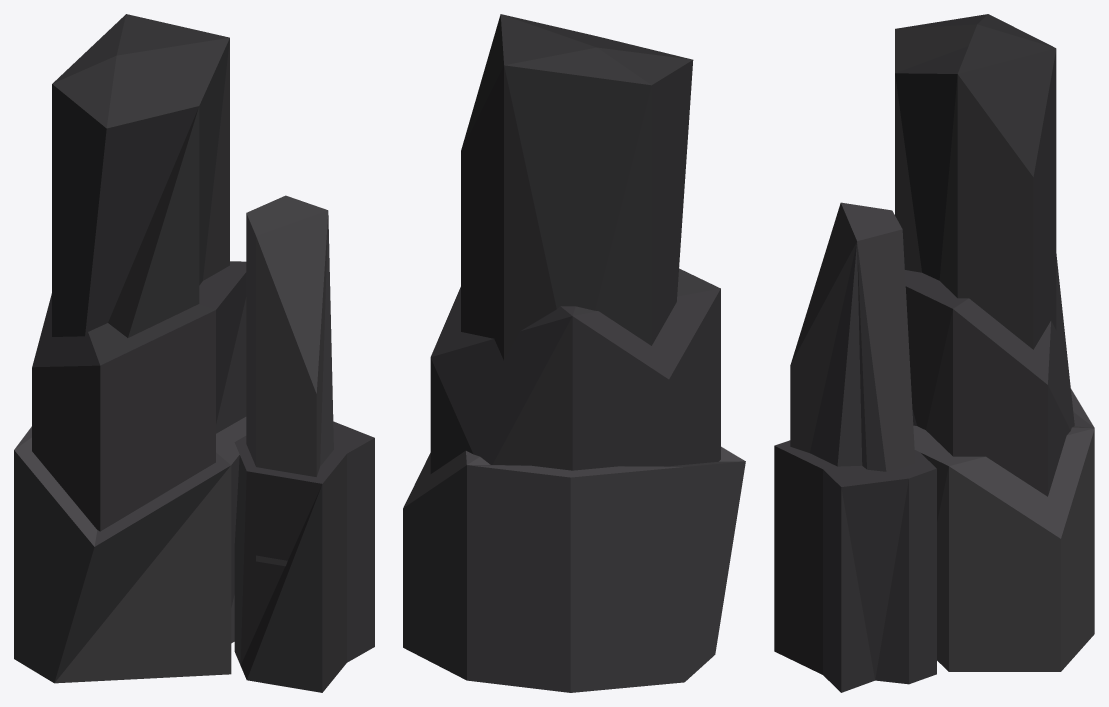
Rendered from AO_Rock03.fbx.
3 renders of one model, left to right at view 1: azimuth 30°, elevation 25°; view 2: azimuth 150°, elevation 25°; view 3: azimuth 270°, elevation 25°, orthographic. The views are drawn at different scales.
Visible parts, largest first — view 1: AO_Rock03; view 2: AO_Rock03; view 3: AO_Rock03.
Boxes of the visible parts, x1,y1,x2,y2 form: AO_Rock03: (14,14,374,692); AO_Rock03: (403,14,745,692); AO_Rock03: (774,14,1094,692).
Bounding box in the file's own units: 147 × 291 × 147.
1 material, 1 textured.
